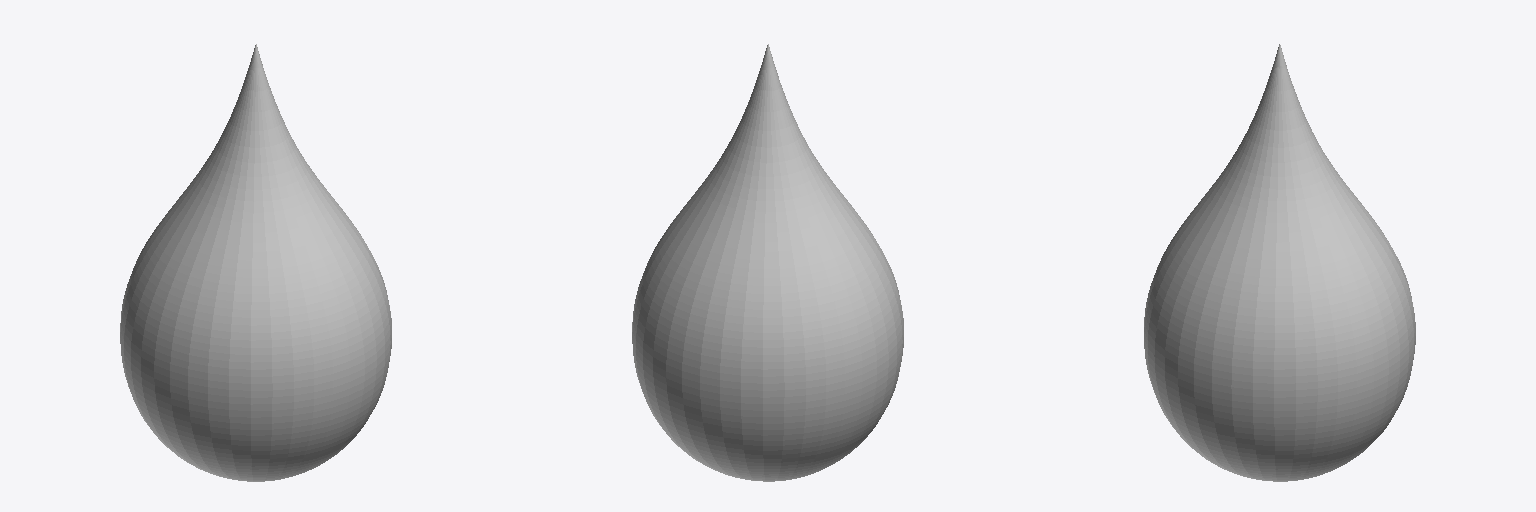
Rendered from drop.obj.
3 views of the same model, side by side, from view 1: azimuth 30°, elevation 25°; view 2: azimuth 150°, elevation 25°; view 3: azimuth 270°, elevation 25° (orthographic).
Visible parts, largest first — view 1: DROP_Sphere; view 2: DROP_Sphere; view 3: DROP_Sphere.
Part boxes in pixels (x1,y1,x2,y2): DROP_Sphere: (120,44,391,481); DROP_Sphere: (632,44,903,481); DROP_Sphere: (1144,44,1415,481).
Size of the model in its own units: 2 by 3.46 by 2.